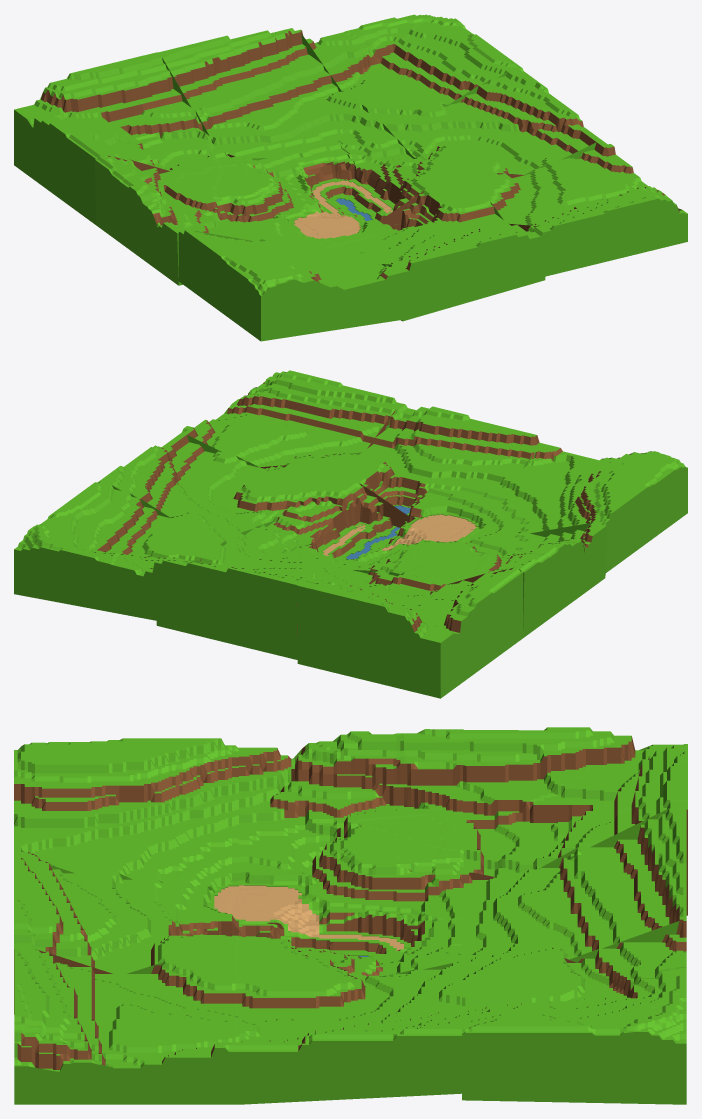
Rendered from Level One Valley Terrain Map Colored With Hills Darker (fbx).fbx.
3 views of the same model, one above another, from view 1: azimuth 30°, elevation 25°; view 2: azimuth 150°, elevation 25°; view 3: azimuth 270°, elevation 25° (orthographic). The views are drawn at different scales.
Visible parts, largest first — view 1: Cube.001; view 2: Cube.001; view 3: Cube.001.
Part boxes in pixels (x1,y1,x2,y2): Cube.001: (14, 14, 687, 341); Cube.001: (14, 370, 687, 698); Cube.001: (14, 727, 687, 1104).
Size of the model in its own units: 18001 by 4003 by 17979.
